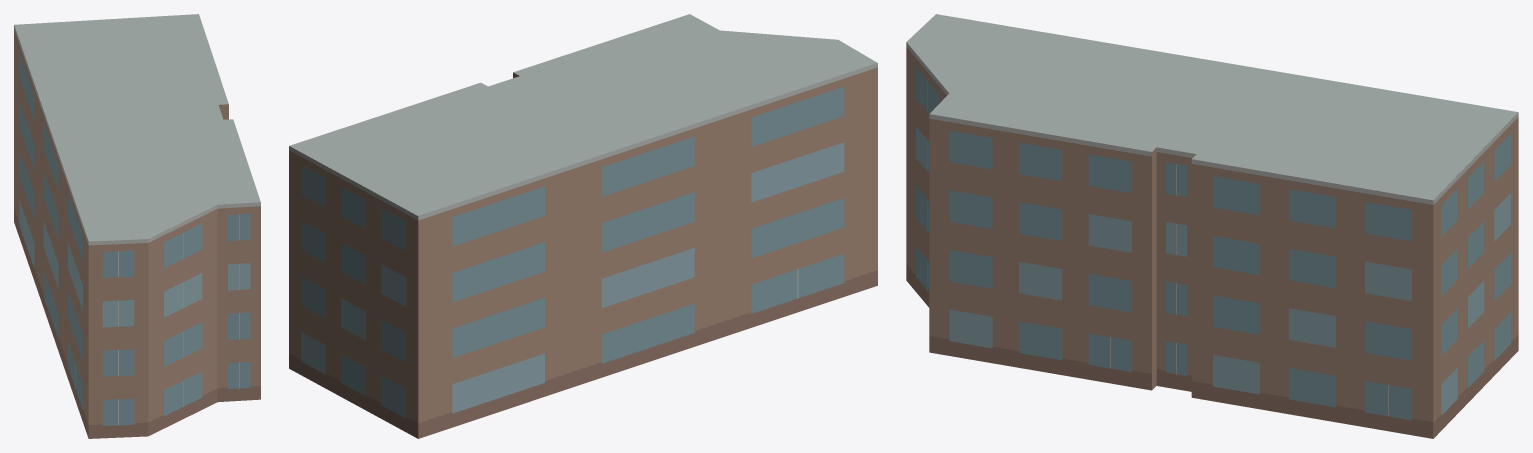
Rendered from survey-upis-32587361.glb.
3 renders of one model, left to right at view 1: azimuth 30°, elevation 25°; view 2: azimuth 150°, elevation 25°; view 3: azimuth 270°, elevation 25°, orthographic. The views are drawn at different scales.
Parts seen in each view (by area): view 1: survey-upis-32587361.tmp; view 2: survey-upis-32587361.tmp; view 3: survey-upis-32587361.tmp.
Part boxes in pixels (bbox=[...]): survey-upis-32587361.tmp: bbox=[14, 14, 260, 438]; survey-upis-32587361.tmp: bbox=[289, 14, 877, 438]; survey-upis-32587361.tmp: bbox=[906, 14, 1518, 438].
Size of the model in its own units: 21.04 by 12.55 by 29.2.
